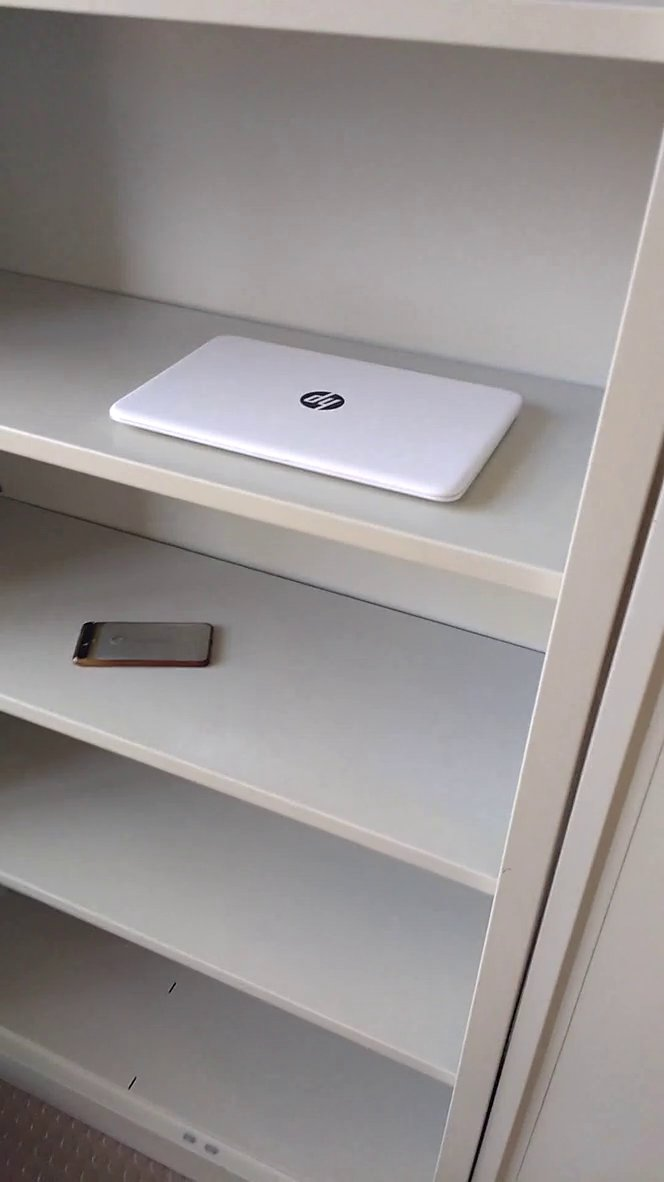laptop: (87, 319, 547, 524)
phone: (65, 611, 225, 687)
